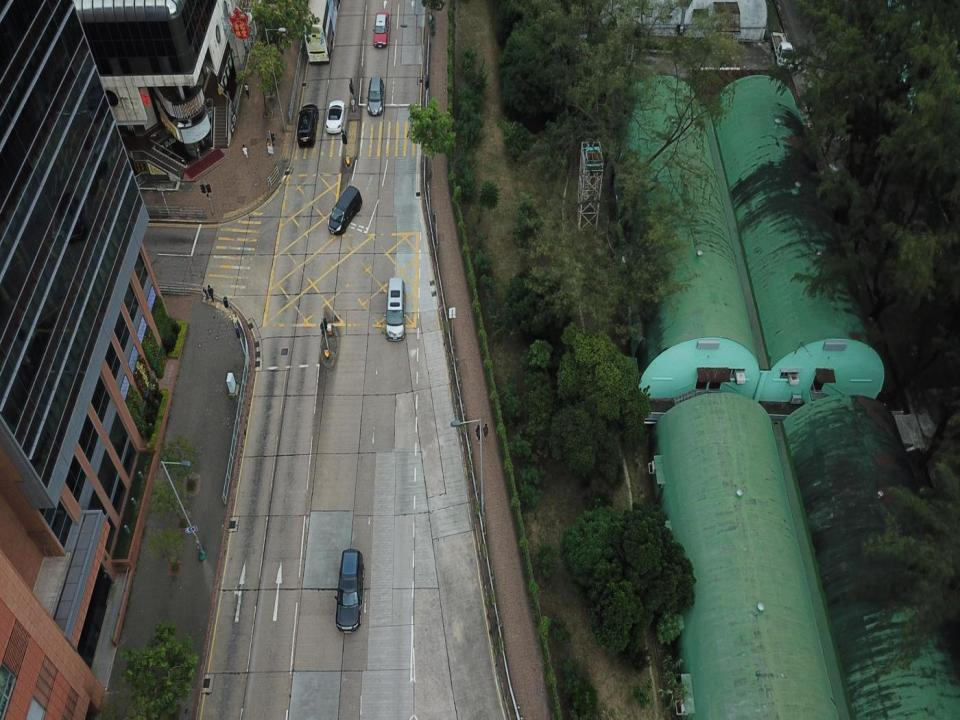car: (366, 77, 384, 118), (325, 100, 345, 132), (374, 11, 389, 48)
van: (335, 549, 364, 632), (328, 185, 362, 236), (386, 277, 407, 341), (298, 104, 319, 148)
